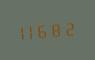eight: (54, 19, 65, 38)
one: (18, 22, 29, 41), (30, 21, 41, 40)
six: (42, 20, 53, 39)
two: (66, 18, 77, 37)
